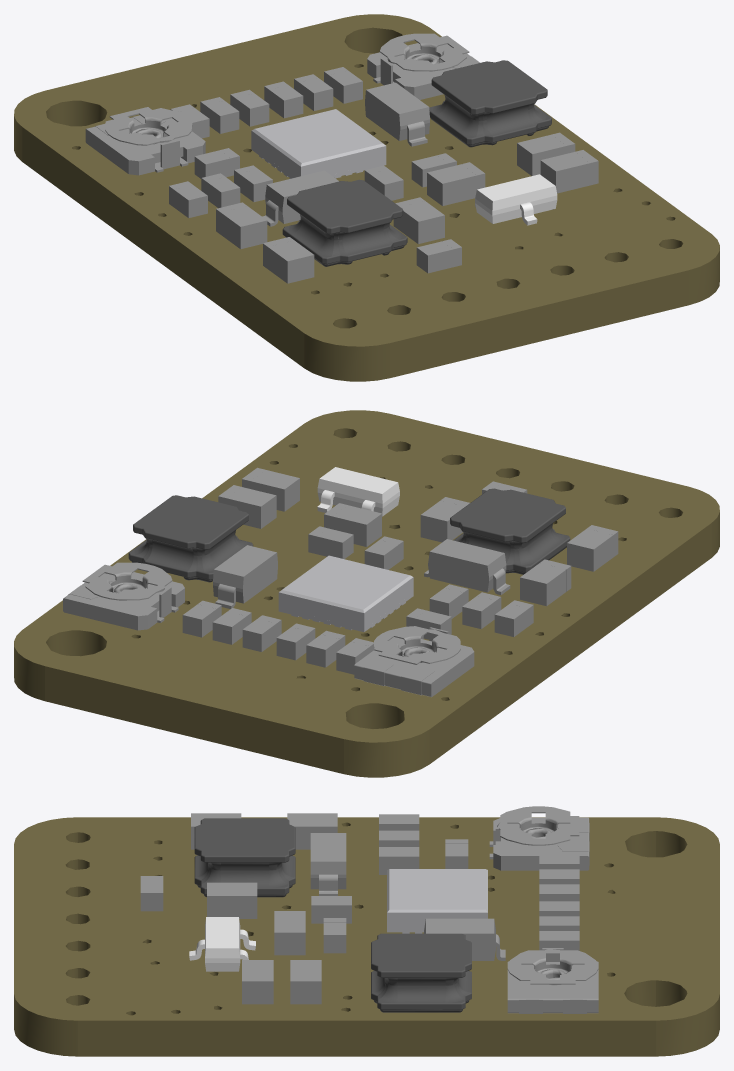
The model's file is ada-6280.glb.
3 renders of one model, top to bottom at view 1: azimuth 30°, elevation 25°; view 2: azimuth 150°, elevation 25°; view 3: azimuth 270°, elevation 25°, orthographic. The views are drawn at different scales.
Parts seen in each view (by area): view 1: 0.16666666666666666_0.16666666666666666_0.08333333333333333_, 0.3333333333333333_0.3333333333333333_0.3333333333333333_0, 0.08333333333333333_0.08333333333333333_0.08333333333333333_, 0.5833333333333334_0.5833333333333334_0.5833333333333334_0.8, 0.9166666666666666_0.9166666666666666_0.9166666666666666_0.8; view 2: 0.16666666666666666_0.16666666666666666_0.08333333333333333_, 0.3333333333333333_0.3333333333333333_0.3333333333333333_0, 0.08333333333333333_0.08333333333333333_0.08333333333333333_, 0.5833333333333334_0.5833333333333334_0.5833333333333334_0.8, 0.9166666666666666_0.9166666666666666_0.9166666666666666_0.8; view 3: 0.16666666666666666_0.16666666666666666_0.08333333333333333_, 0.3333333333333333_0.3333333333333333_0.3333333333333333_0, 0.08333333333333333_0.08333333333333333_0.08333333333333333_, 0.5833333333333334_0.5833333333333334_0.5833333333333334_0.8, 0.9166666666666666_0.9166666666666666_0.9166666666666666_0.8.
Part boxes in pixels (x1,y1,x2,y2): 0.16666666666666666_0.16666666666666666_0.08333333333333333_: [14, 14, 719, 381]; 0.3333333333333333_0.3333333333333333_0.3333333333333333_0: [85, 33, 598, 283]; 0.08333333333333333_0.08333333333333333_0.08333333333333333_: [282, 60, 551, 266]; 0.5833333333333334_0.5833333333333334_0.5833333333333334_0.8: [251, 109, 386, 178]; 0.9166666666666666_0.9166666666666666_0.9166666666666666_0.8: [475, 174, 557, 225]; 0.16666666666666666_0.16666666666666666_0.08333333333333333_: [14, 410, 719, 777]; 0.3333333333333333_0.3333333333333333_0.3333333333333333_0: [63, 467, 618, 697]; 0.08333333333333333_0.08333333333333333_0.08333333333333333_: [128, 488, 570, 582]; 0.5833333333333334_0.5833333333333334_0.5833333333333334_0.8: [278, 555, 413, 632]; 0.9166666666666666_0.9166666666666666_0.9166666666666666_0.8: [317, 467, 399, 516]; 0.16666666666666666_0.16666666666666666_0.08333333333333333_: [14, 817, 719, 1056]; 0.3333333333333333_0.3333333333333333_0.3333333333333333_0: [140, 806, 598, 1013]; 0.08333333333333333_0.08333333333333333_0.08333333333333333_: [194, 818, 471, 1012]; 0.5833333333333334_0.5833333333333334_0.5833333333333334_0.8: [387, 869, 487, 933]; 0.9166666666666666_0.9166666666666666_0.9166666666666666_0.8: [189, 917, 255, 971].
Size of the model in its own units: 1.91 by 0.337 by 2.79.
